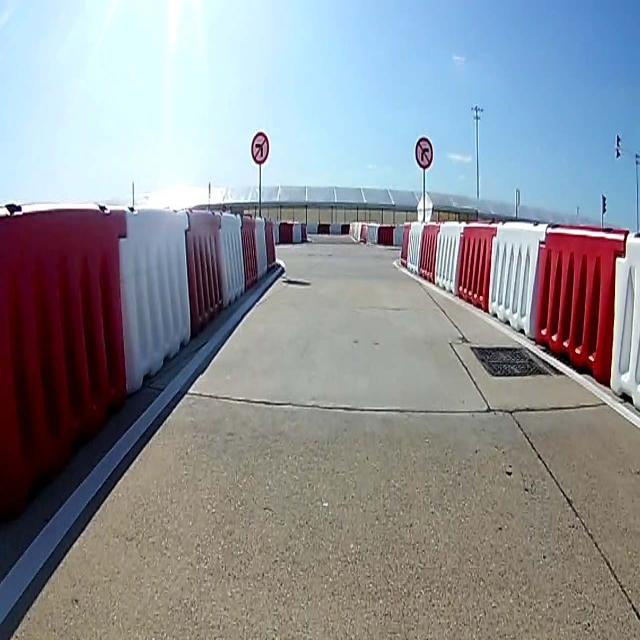sagadonulmez: (413, 135, 435, 173)
soladonulmez: (250, 132, 270, 166)
